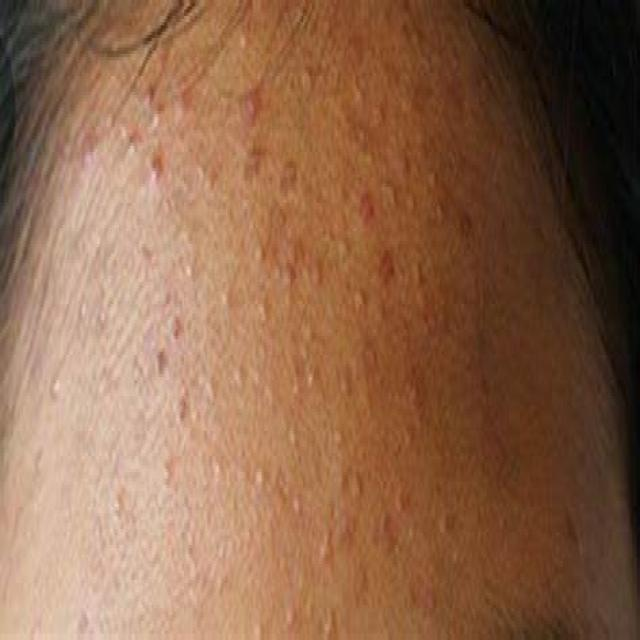fungal: (56, 39, 534, 640)
